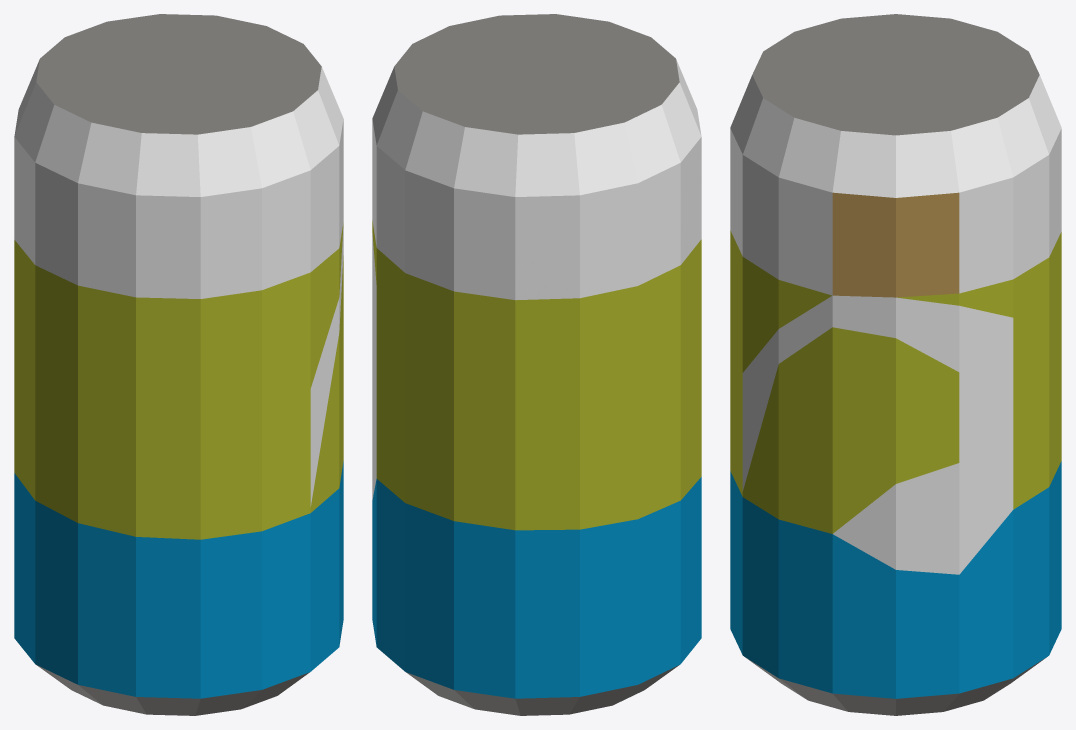
File: lata4.glb
3 renders of one model, left to right at view 1: azimuth 30°, elevation 25°; view 2: azimuth 150°, elevation 25°; view 3: azimuth 270°, elevation 25°, orthographic.
Visible parts, largest first — view 1: Cilindro; view 2: Cilindro; view 3: Cilindro.
Part boxes in pixels (left/top/right/bottom): Cilindro: left=14, top=14, right=343, bottom=715; Cilindro: left=372, top=14, right=701, bottom=715; Cilindro: left=730, top=14, right=1061, bottom=715.
Size of the model in its own units: 0.182 by 0.3565 by 0.182.
